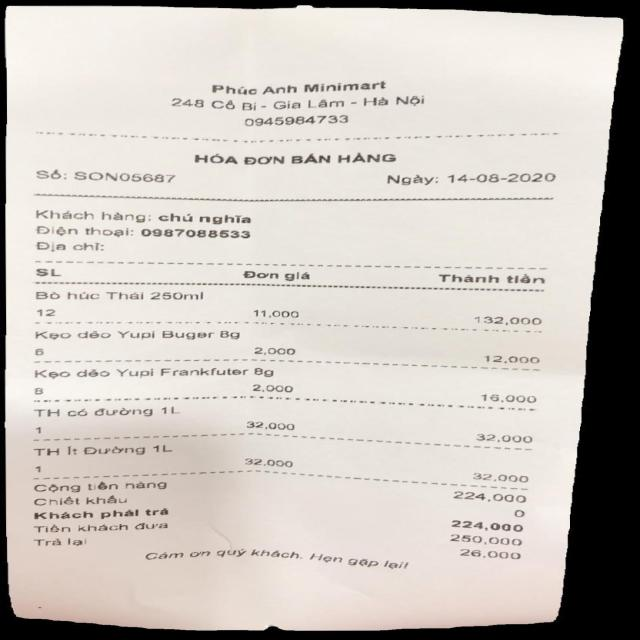Date: (448, 172, 560, 186)
Store_Name: (205, 79, 389, 94)
amount_number: (449, 517, 531, 533)
label_total: (25, 506, 176, 518)
